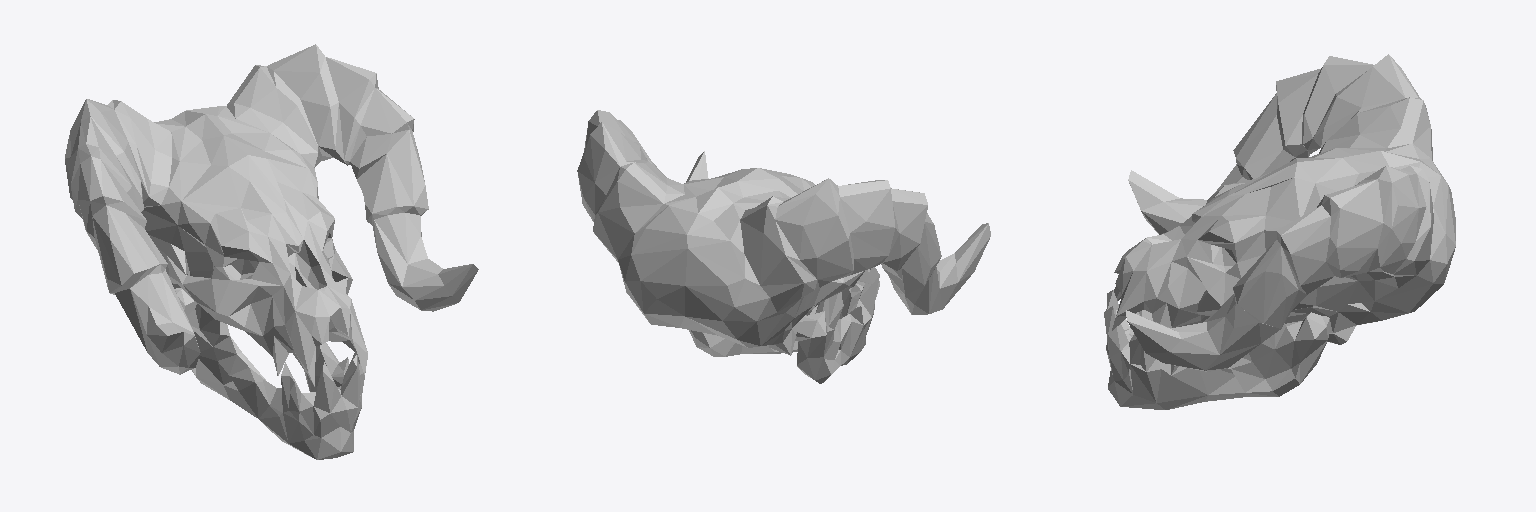
The model's file is Skull_1719.obj.
3 renders of one model, left to right at view 1: azimuth 30°, elevation 25°; view 2: azimuth 150°, elevation 25°; view 3: azimuth 270°, elevation 25°, orthographic.
Parts seen in each view (by area): view 1: DeathClawSKULL; view 2: DeathClawSKULL; view 3: DeathClawSKULL.
Part boxes in pixels (left/top/right/bottom): DeathClawSKULL: left=65, top=44, right=478, bottom=459; DeathClawSKULL: left=577, top=110, right=990, bottom=383; DeathClawSKULL: left=1104, top=54, right=1455, bottom=409.
Size of the model in its own units: 2.55 by 2.18 by 2.38.